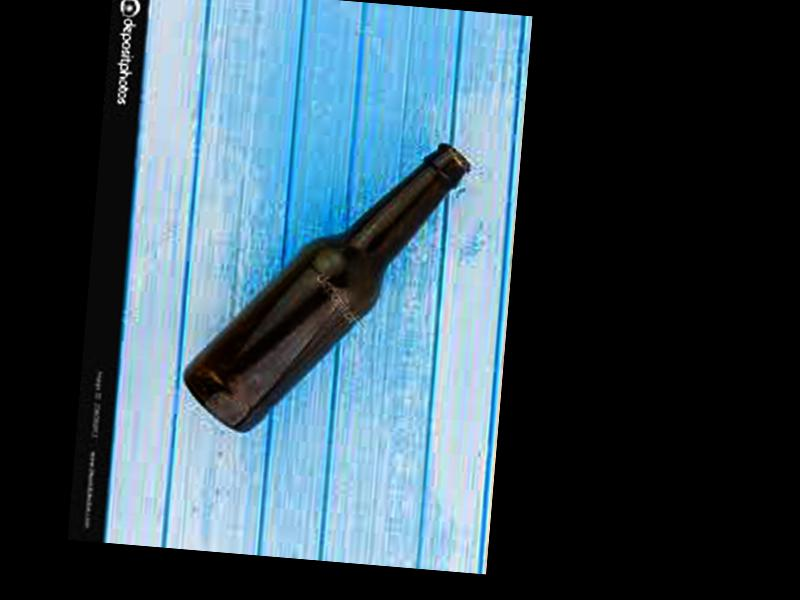Beer: (175, 125, 472, 449)
